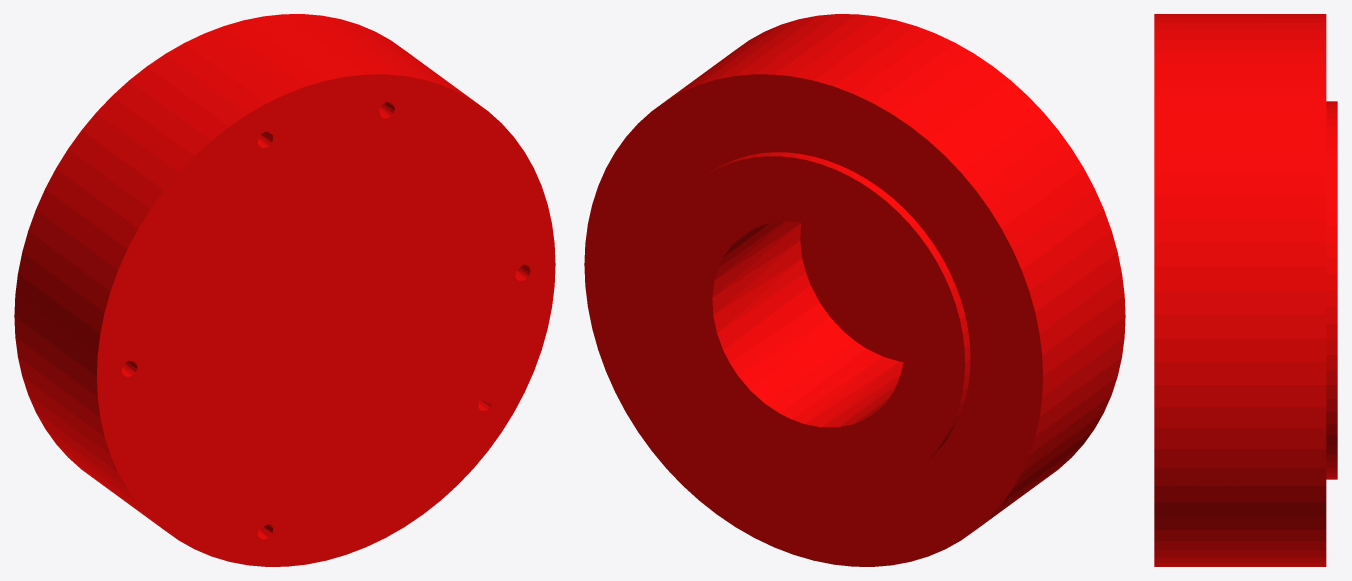
Rendered from right_arm_1_x8_2_outer_1.glb.
3 renders of one model, left to right at view 1: azimuth 30°, elevation 25°; view 2: azimuth 150°, elevation 25°; view 3: azimuth 270°, elevation 25°, orthographic. The views are drawn at different scales.
Visible parts, largest first — view 1: right_arm_1_x8_2_outer_1.obj; view 2: right_arm_1_x8_2_outer_1.obj; view 3: right_arm_1_x8_2_outer_1.obj.
Part boxes in pixels (x1,y1,x2,y2): right_arm_1_x8_2_outer_1.obj: (14, 14, 555, 566); right_arm_1_x8_2_outer_1.obj: (584, 14, 1125, 566); right_arm_1_x8_2_outer_1.obj: (1154, 14, 1337, 566).
Bounding box in the file's own units: 0.098 × 0.098 × 0.0325.
